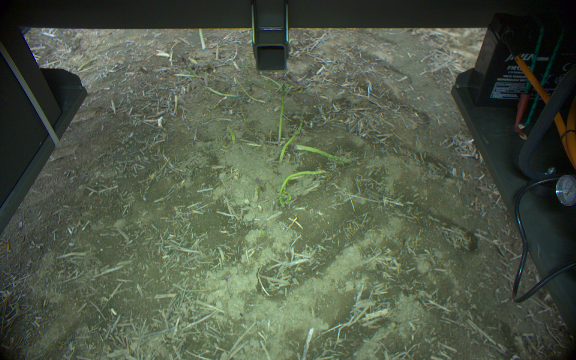aspa: (279, 118, 306, 165), (278, 170, 327, 195), (295, 142, 347, 163), (276, 82, 287, 138), (251, 175, 261, 200)
